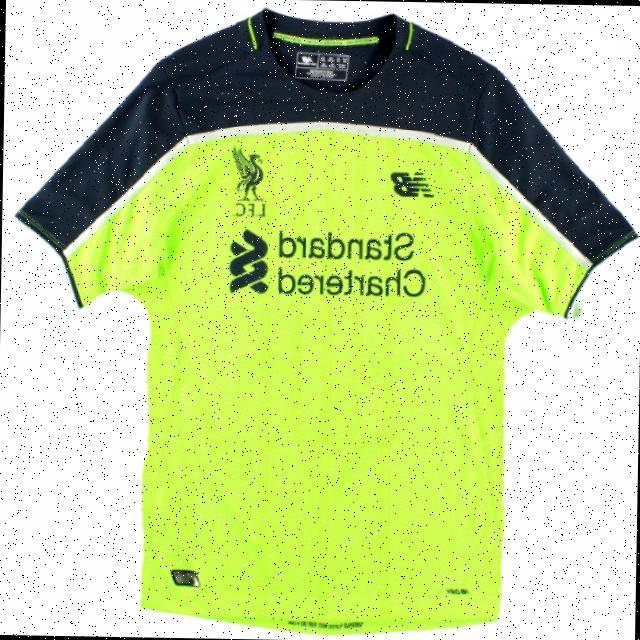Standard Chartered: (227, 225, 430, 303)
